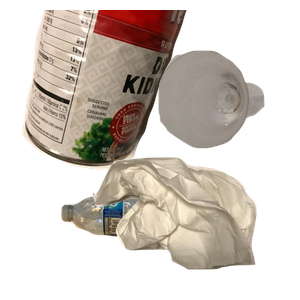glass: (156, 48, 300, 189)
metal: (20, 10, 199, 172)
plastic: (59, 193, 241, 300)
trash: (90, 155, 300, 300)
